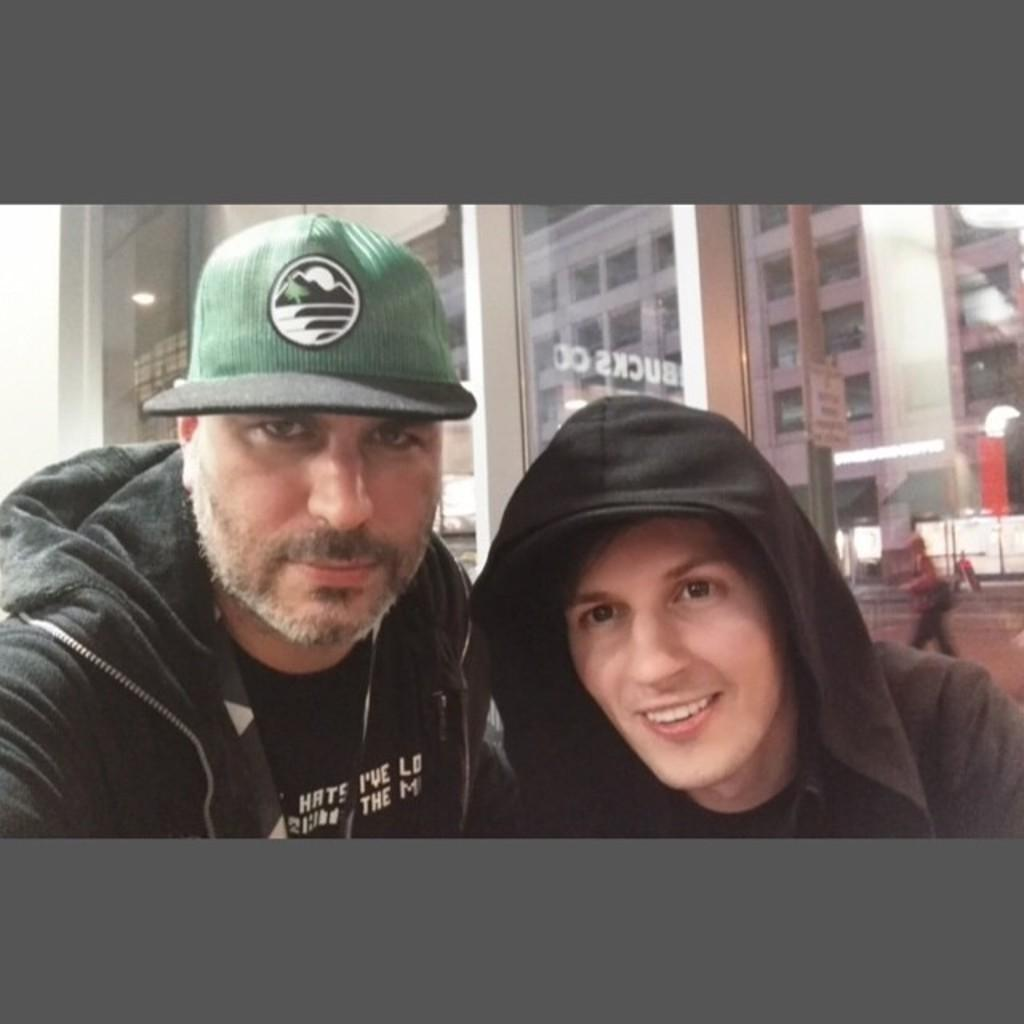Hat: (144, 210, 476, 420)
